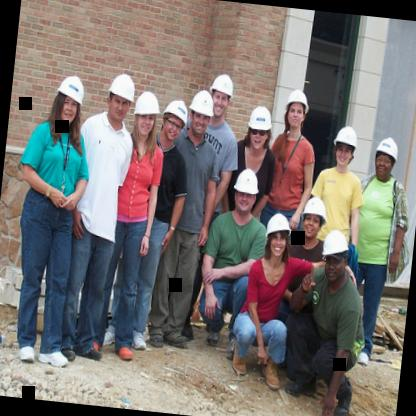helmet: (319, 228, 353, 282), (53, 74, 87, 128), (129, 87, 162, 140), (156, 96, 190, 145), (106, 70, 138, 120), (244, 100, 274, 152), (298, 192, 330, 240), (372, 133, 402, 183), (330, 122, 360, 172), (263, 210, 293, 258), (232, 166, 260, 214), (208, 71, 236, 118), (186, 88, 214, 134), (284, 87, 310, 129)
